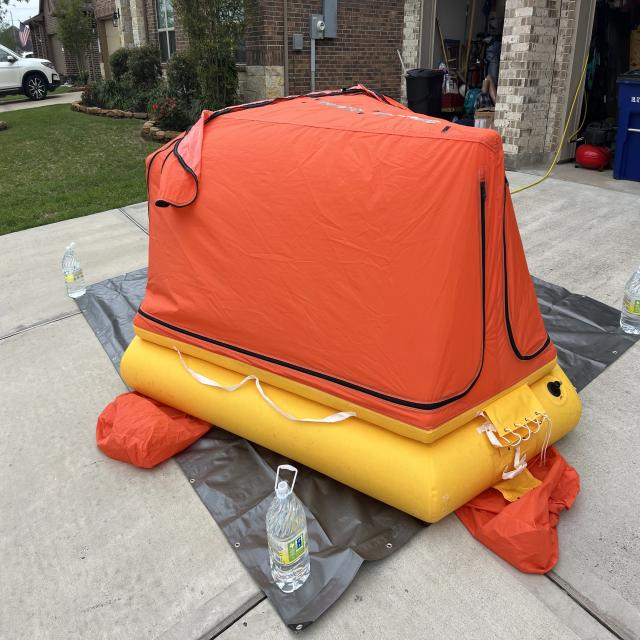Multi-person_life_raft: (97, 82, 581, 574)
